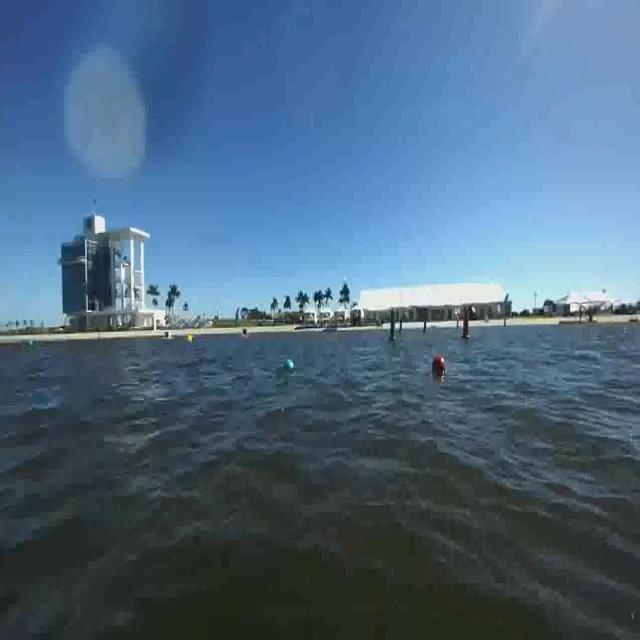green-buoy: (282, 360, 296, 375)
green-column-buoy: (388, 310, 398, 342)
red-buoy: (432, 355, 444, 373)
red-column-buoy: (461, 310, 471, 341)
yellow-buoy: (186, 334, 194, 346)
